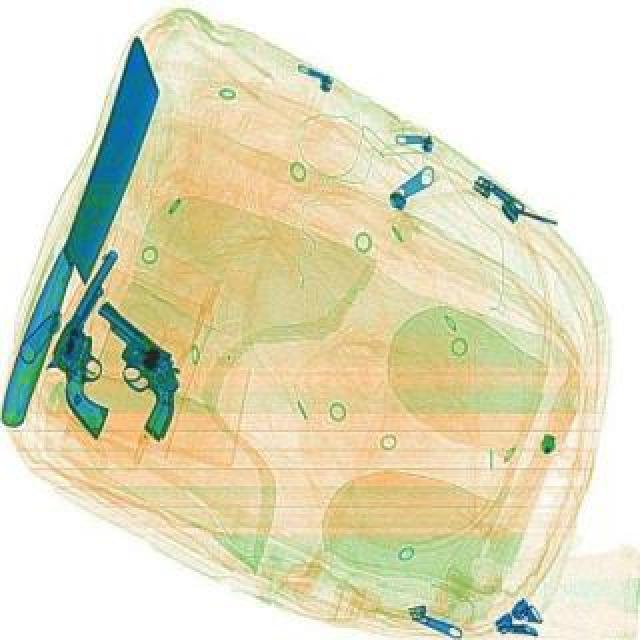gun: (10, 244, 190, 438), (50, 296, 214, 442)
knife: (0, 32, 176, 432)
